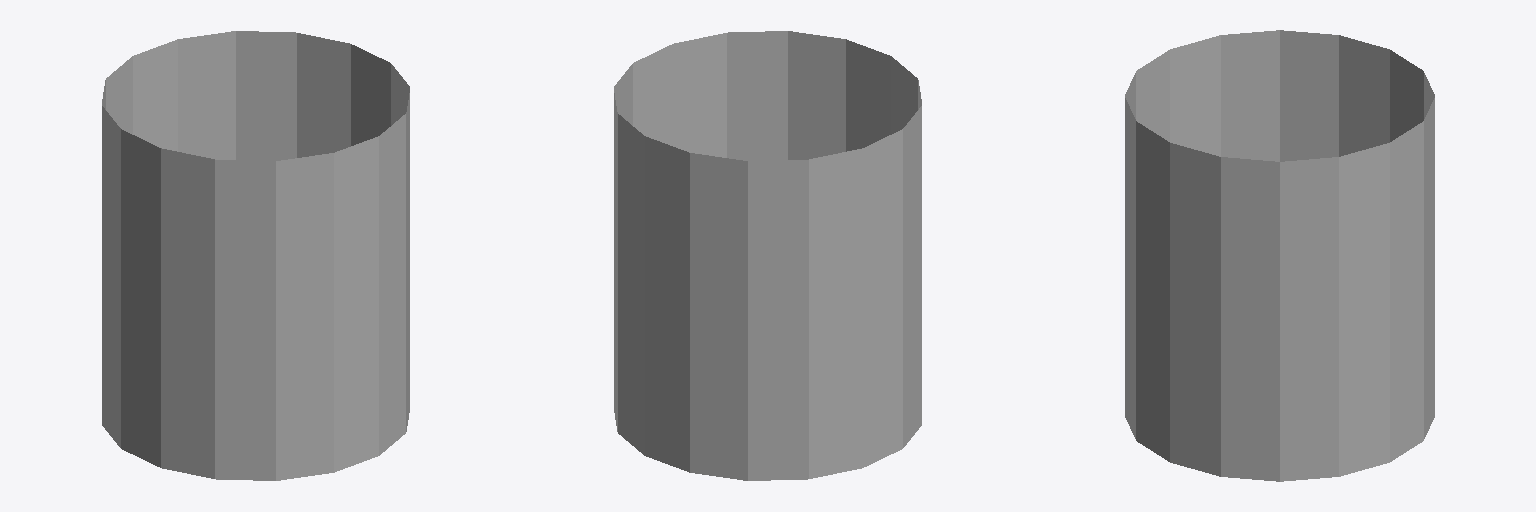
File: Core_V_Glass.obj
3 renders of one model, left to right at view 1: azimuth 30°, elevation 25°; view 2: azimuth 150°, elevation 25°; view 3: azimuth 270°, elevation 25°, orthographic.
Visible parts, largest first — view 1: Core_V_Glass_Core_V_Glass_Mesh; view 2: Core_V_Glass_Core_V_Glass_Mesh; view 3: Core_V_Glass_Core_V_Glass_Mesh.
Boxes of the visible parts, x1,y1,x2,y2 form: Core_V_Glass_Core_V_Glass_Mesh: [102, 31, 409, 480]; Core_V_Glass_Core_V_Glass_Mesh: [614, 31, 921, 480]; Core_V_Glass_Core_V_Glass_Mesh: [1125, 30, 1434, 481].
Bounding box in the file's own units: 0.4541 × 0.5141 × 0.4526.